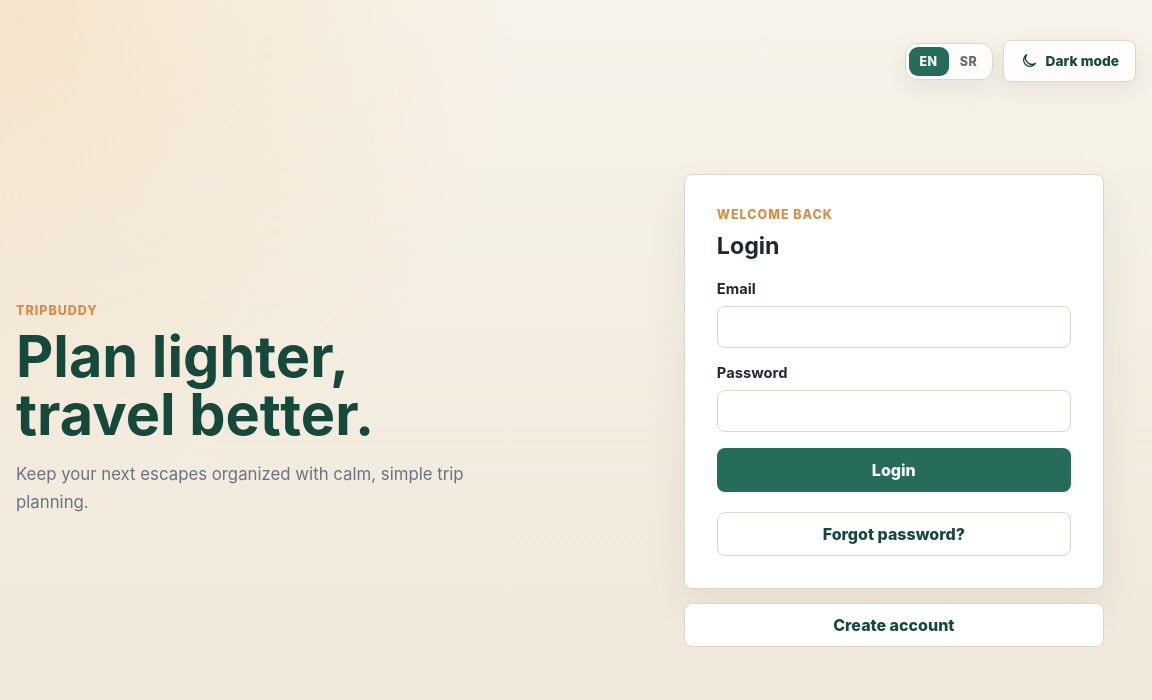
Scenario: TripBuddy frontend › stores token after successful login
The image size is (1152, 700).
Type "test@example.com" into the field labelled "Email" at [894, 326], box [717, 306, 1071, 348]
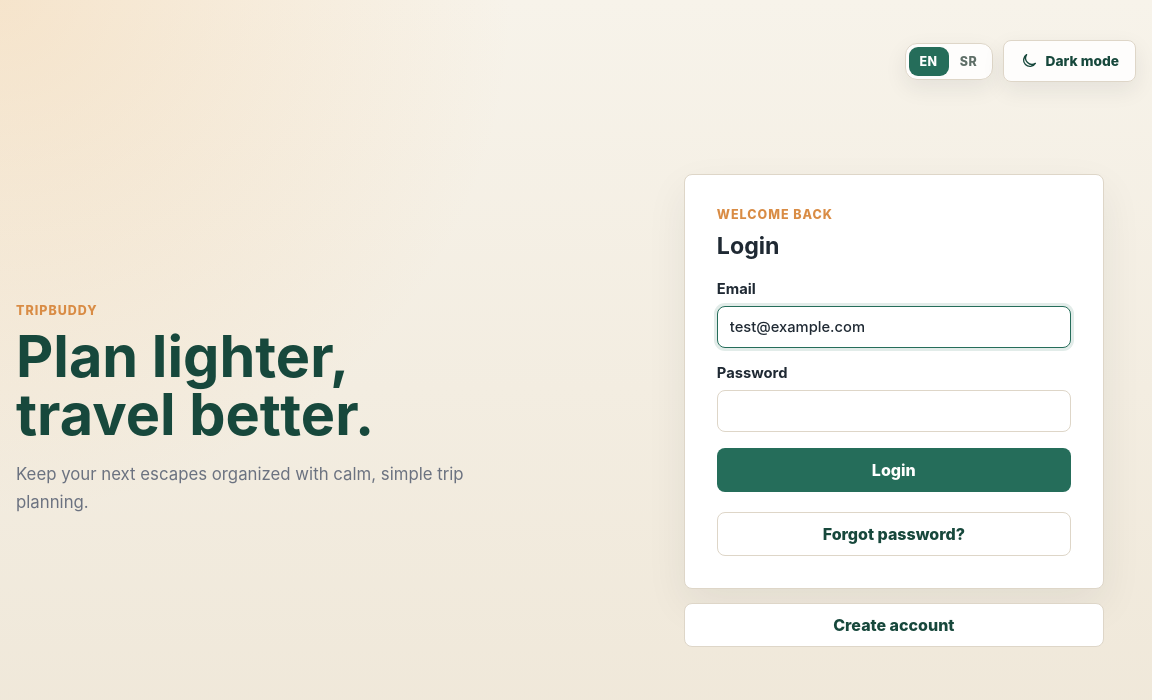
Type "password123" into the password field labelled "Password" at [894, 410], box [717, 390, 1071, 432]
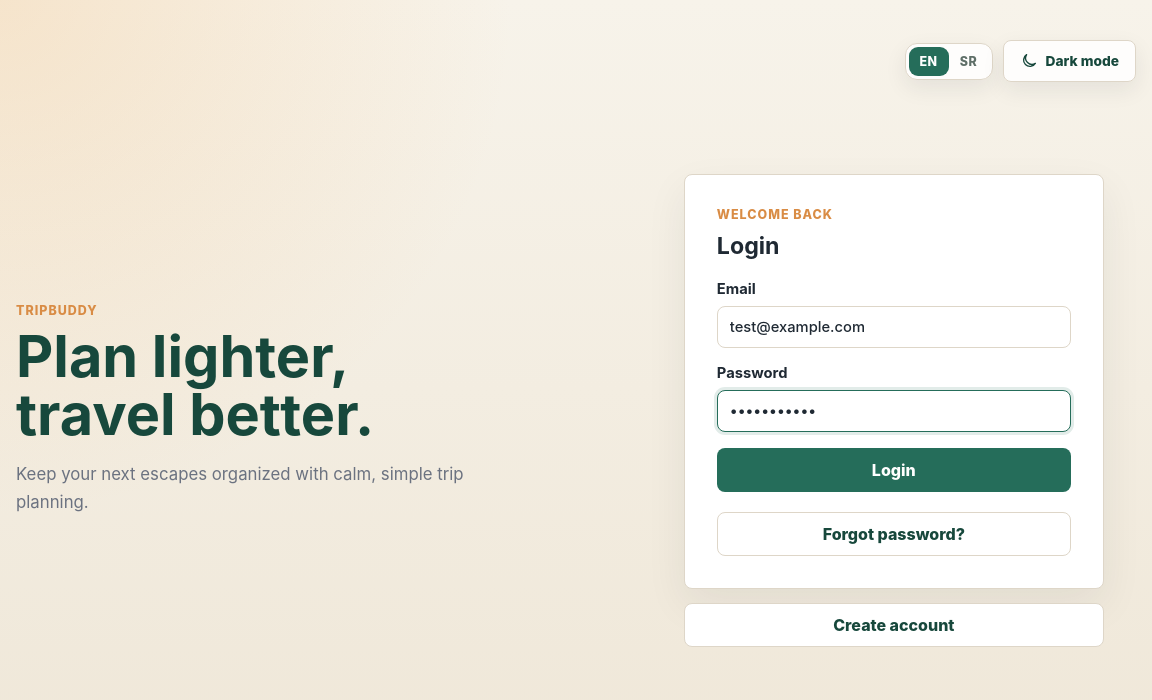
Click the button "Login" at [894, 470], box [717, 448, 1071, 492]
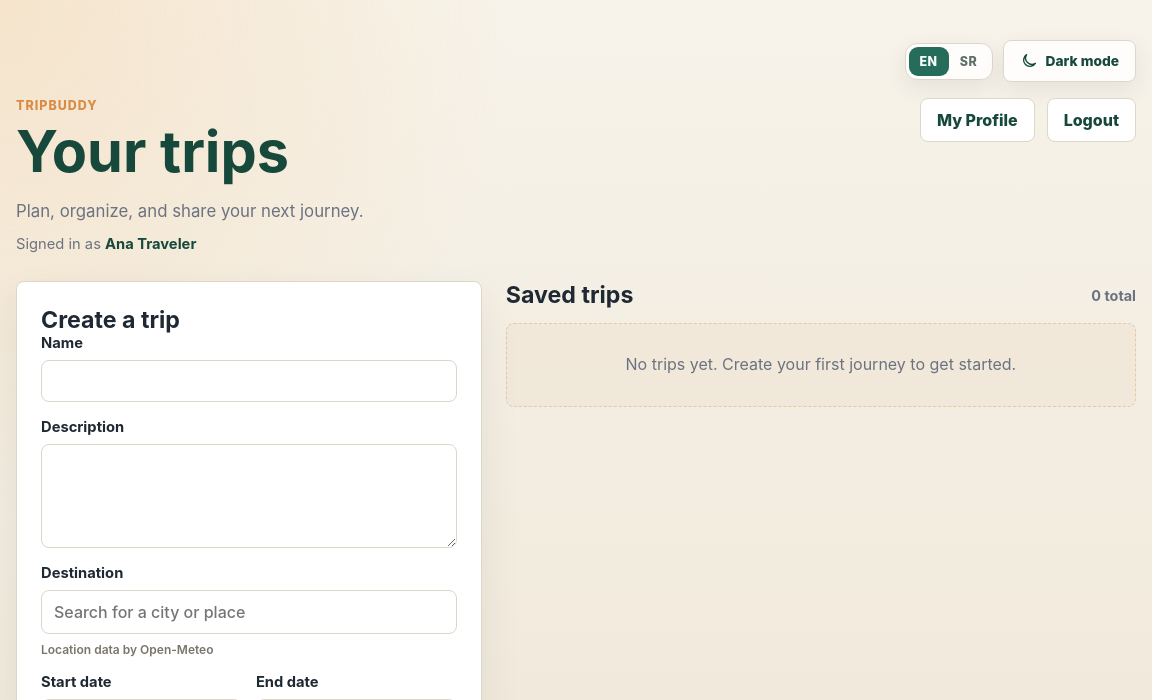
Expected: the heading "Your trips" is shown, [16, 116, 289, 186]
Expected: the text "Ana Traveler" is shown, [105, 235, 196, 253]
